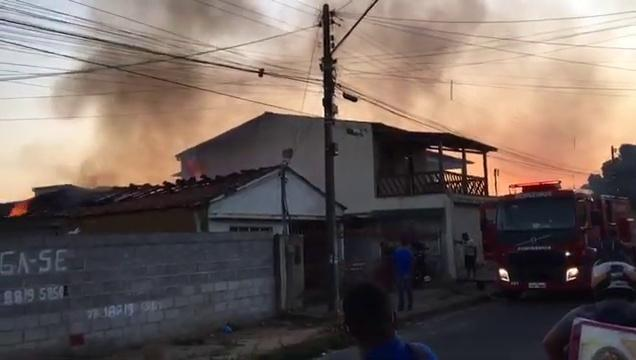smoke: (115, 68, 184, 169), (358, 23, 441, 88), (517, 121, 570, 170)
